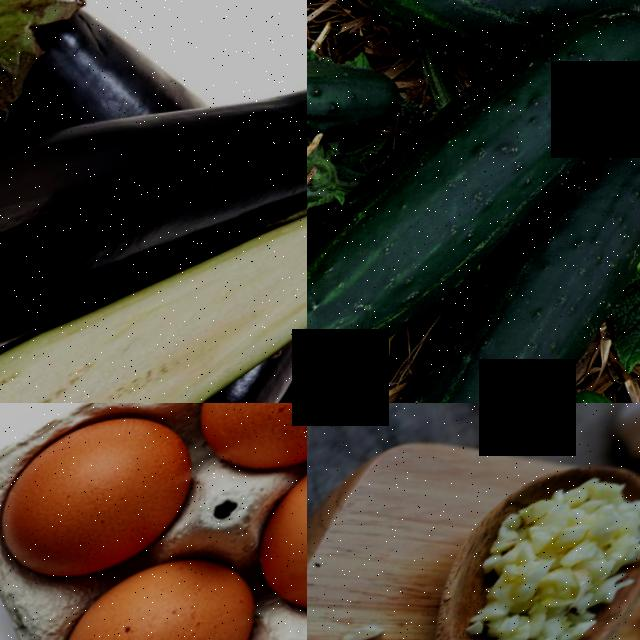cucumber: (307, 43, 604, 403), (318, 221, 640, 403), (349, 0, 619, 111), (307, 0, 404, 225)
egg_: (0, 403, 216, 615), (31, 522, 286, 640), (223, 405, 307, 640), (167, 403, 307, 516)
eggplant: (0, 0, 307, 403), (0, 149, 307, 403), (0, 0, 159, 211)
